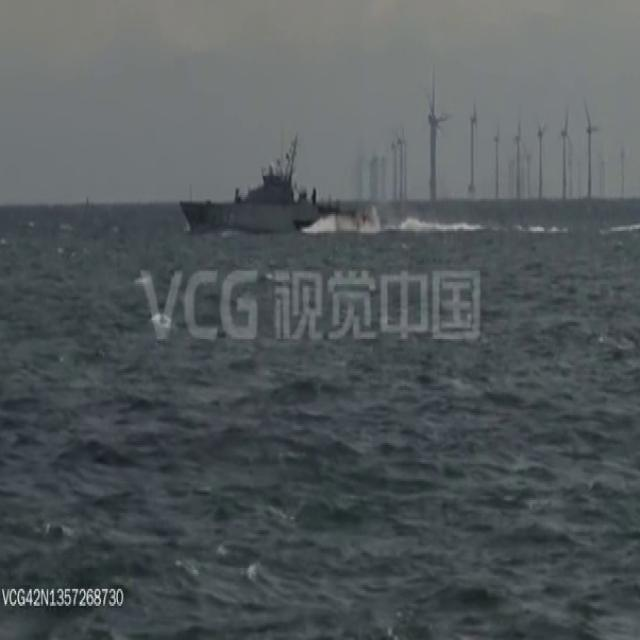navalvessels: (174, 145, 380, 235)
